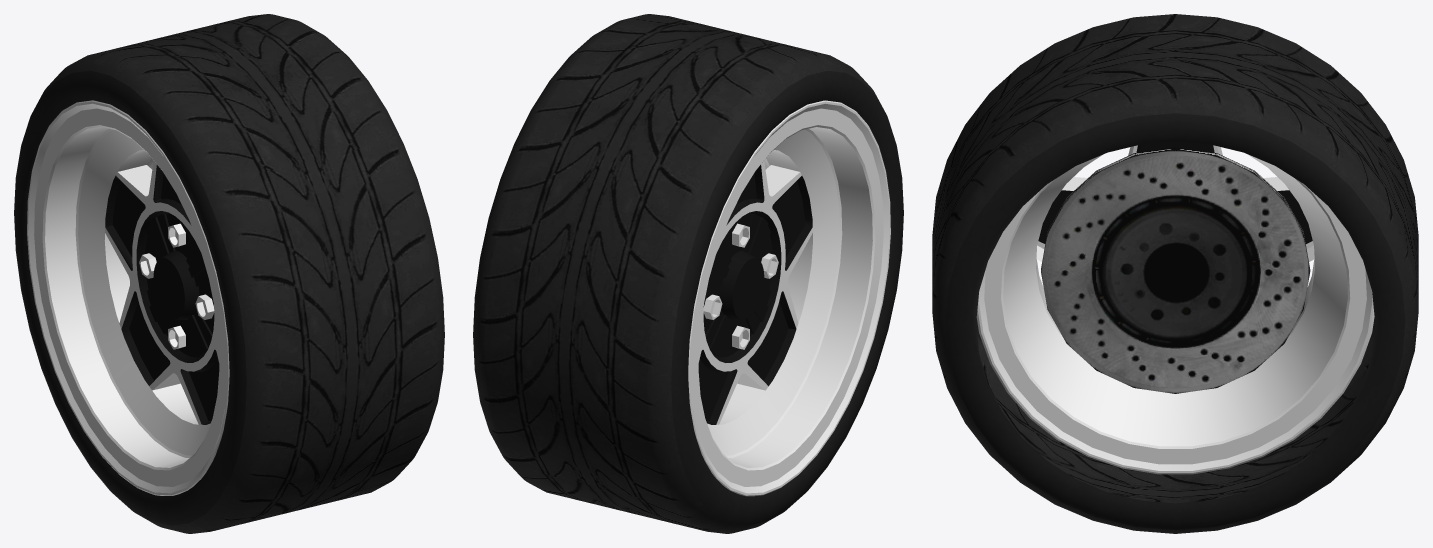
Rendered from 06_ATS.fbx.
The picture shows the model from 3 angles, left to right: view 1: azimuth 30°, elevation 25°; view 2: azimuth 150°, elevation 25°; view 3: azimuth 270°, elevation 25°; orthographic projection.
Visible parts, largest first — view 1: Combined No Name Object 0, ATS, Combined co_contisportcontact_2_vmax_wall Object 0, Black; view 2: Combined No Name Object 0, ATS, Combined co_contisportcontact_2_vmax_wall Object 0, Black; view 3: Combined No Name Object 0, Rotor, ATS, Combined co_contisportcontact_2_vmax_wall Object 0, Black.
Boxes of the visible parts, box(x1,y1,x2,y2) form: Combined No Name Object 0: box(14, 14, 444, 533); ATS: box(27, 100, 229, 495); Combined co_contisportcontact_2_vmax_wall Object 0: box(14, 70, 246, 525); Black: box(105, 165, 219, 424); Combined No Name Object 0: box(473, 14, 903, 533); ATS: box(688, 100, 890, 496); Combined co_contisportcontact_2_vmax_wall Object 0: box(671, 70, 903, 525); Black: box(698, 165, 812, 424); Combined No Name Object 0: box(932, 14, 1418, 533); Rotor: box(1041, 147, 1310, 393); ATS: box(976, 145, 1374, 474); Combined co_contisportcontact_2_vmax_wall Object 0: box(945, 113, 1405, 530); Black: box(1038, 141, 1312, 243).
Size of the model in its own units: 0.3334 by 0.688 by 0.688.
